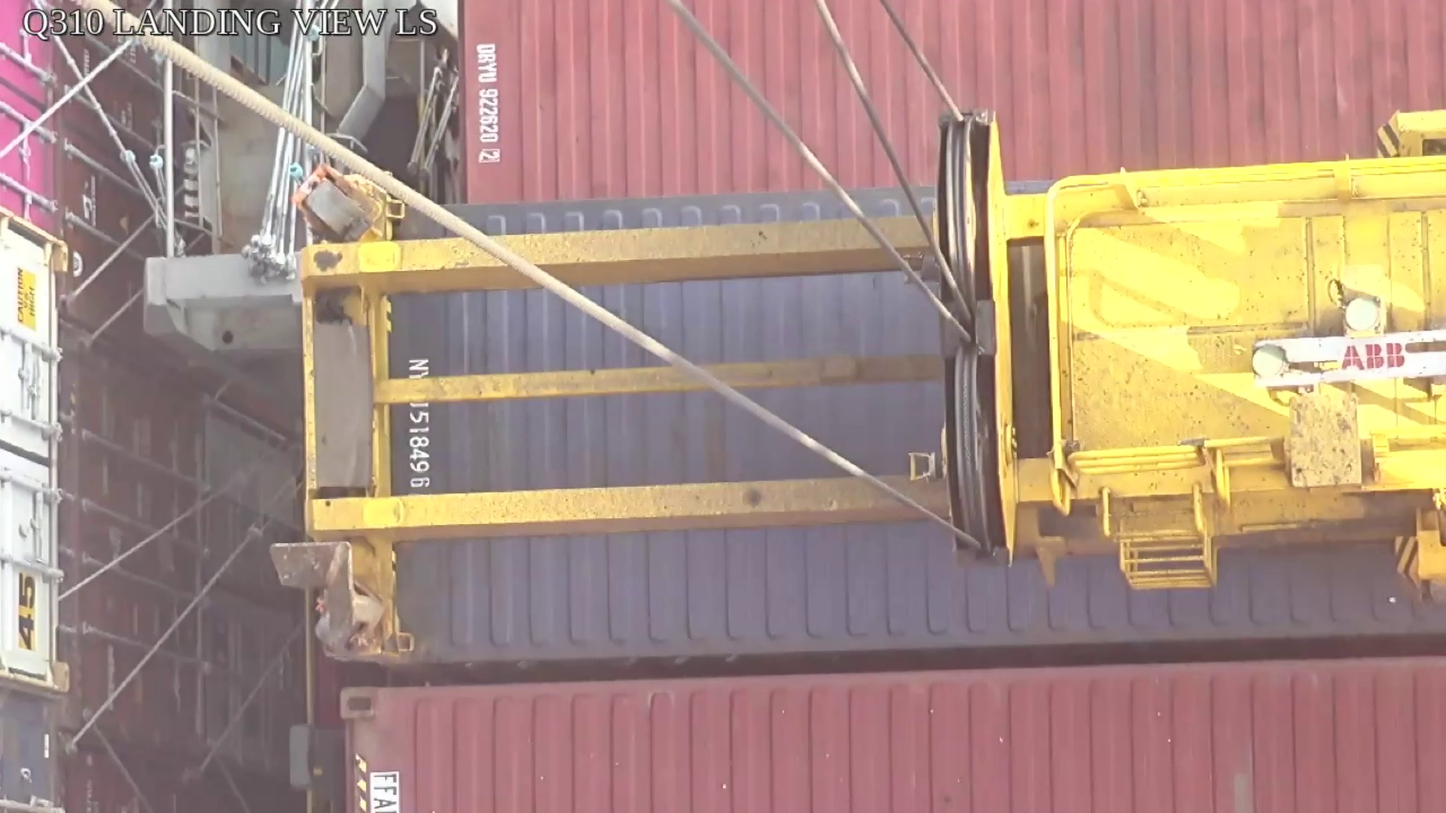aa: (935, 111, 1018, 568)
